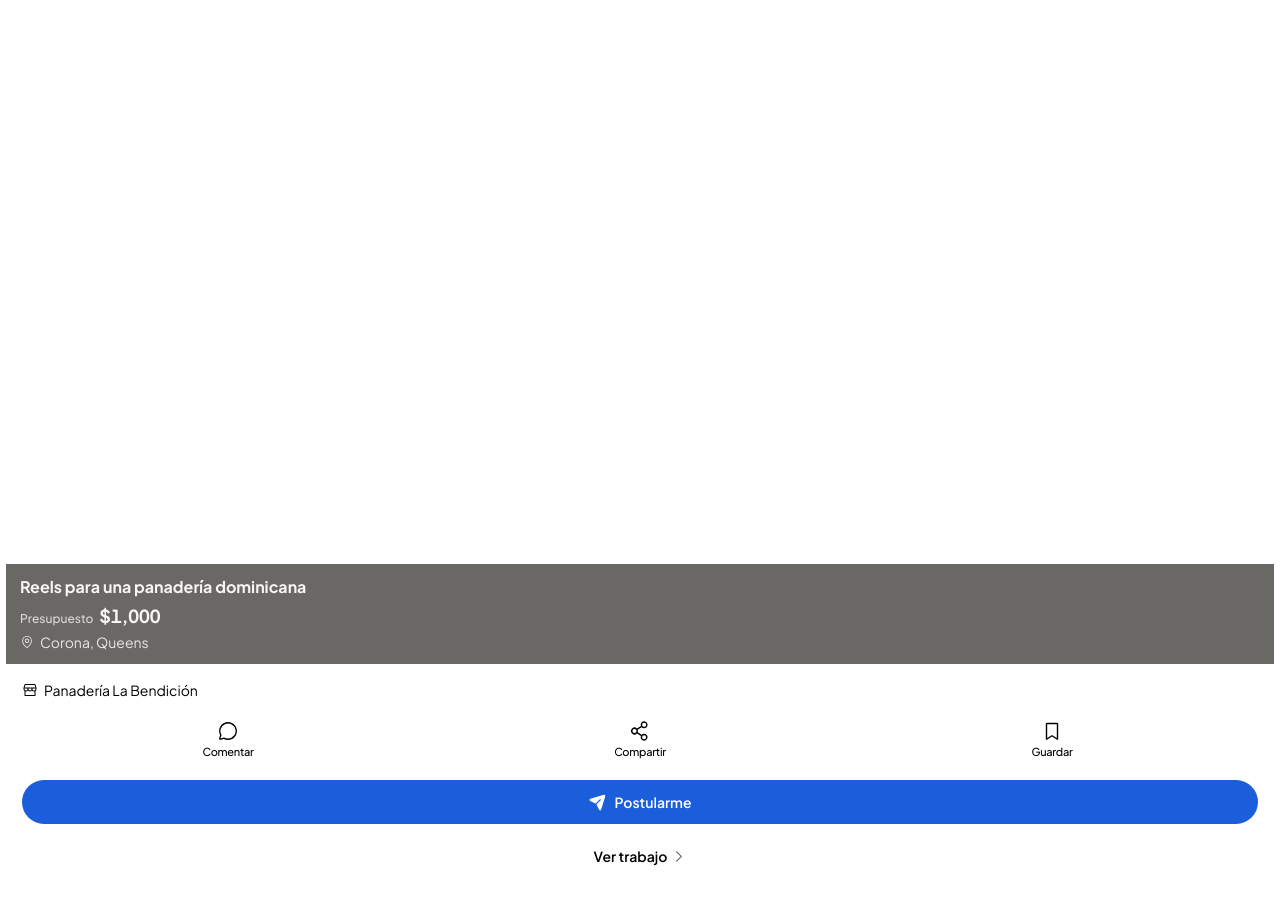
Test: GigCard: postularse se resuelve en la lista › un 'ya te habías postulado' NO se pinta como propuesta enviada
(page scrolled)
Click the button with aria-label "postularme a ". click: (640, 802)
box: 22,780 -> 1258,824
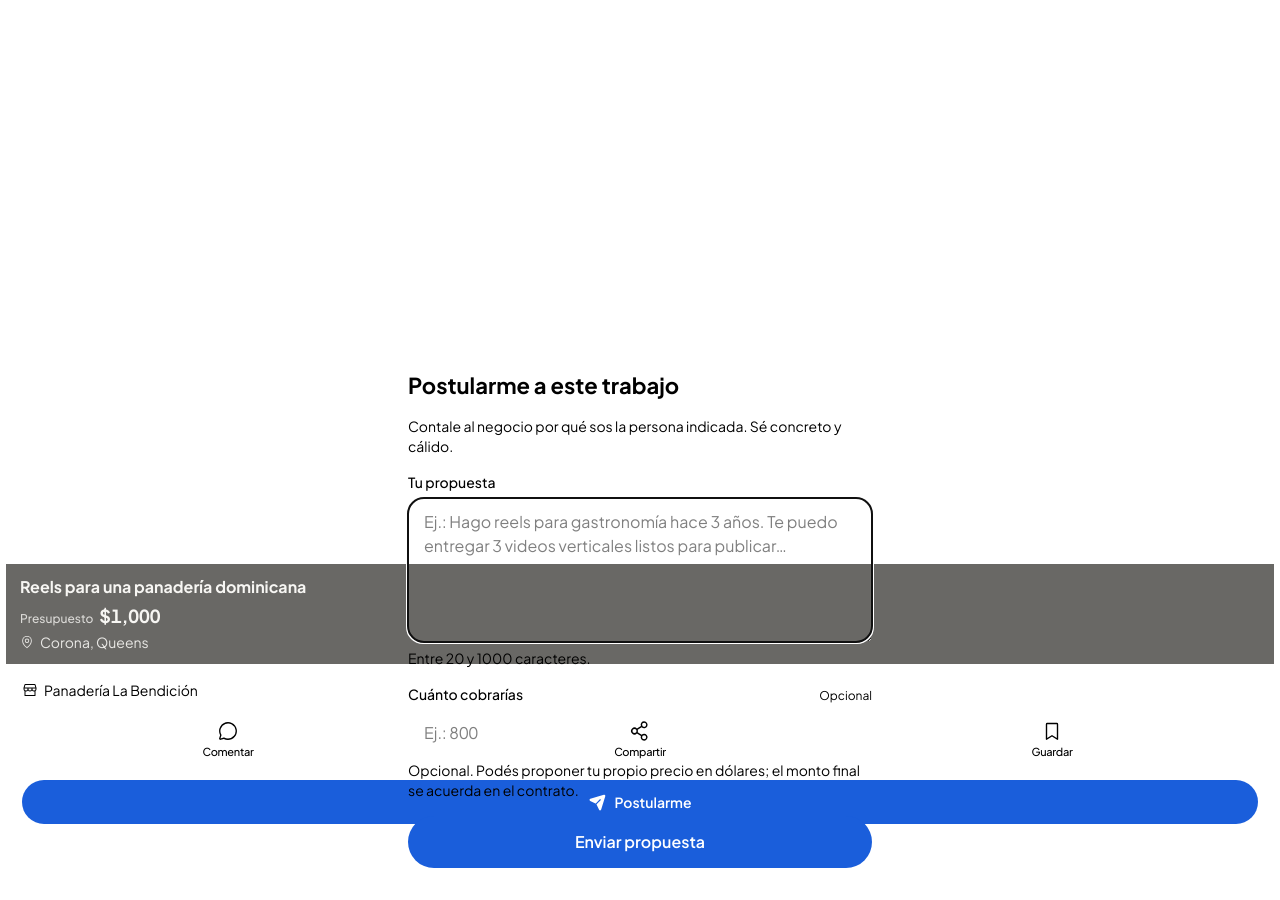
Expected: the dialog is shown, 384,336 -> 896,899
Replace the text in the text box with "Hago reels para gastronomía y te puedo entregar tres videos verticales.". click: (640, 570)
box: 408,498 -> 872,642
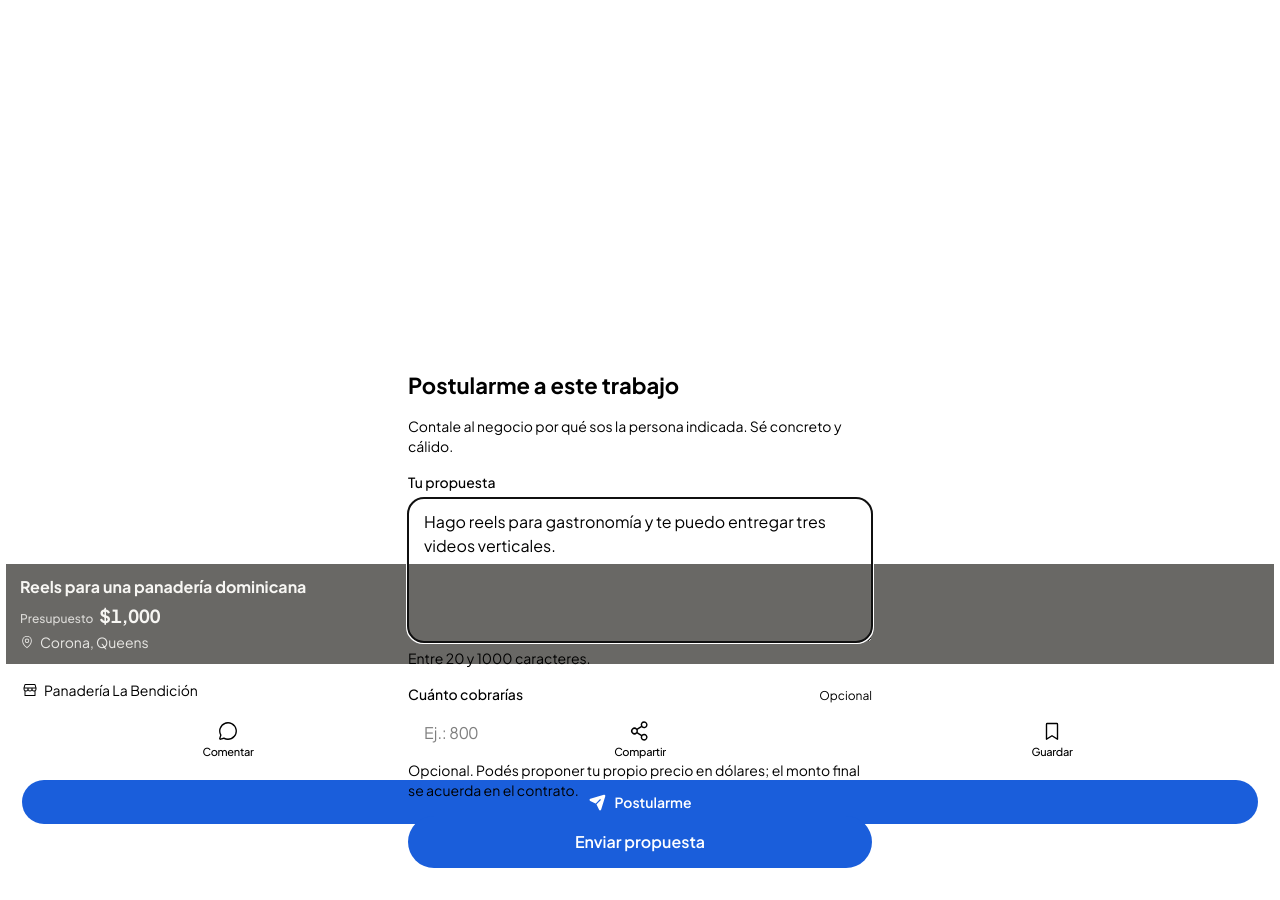
Click the button "Enviar propuesta". click: (640, 842)
box: 408,816 -> 872,868
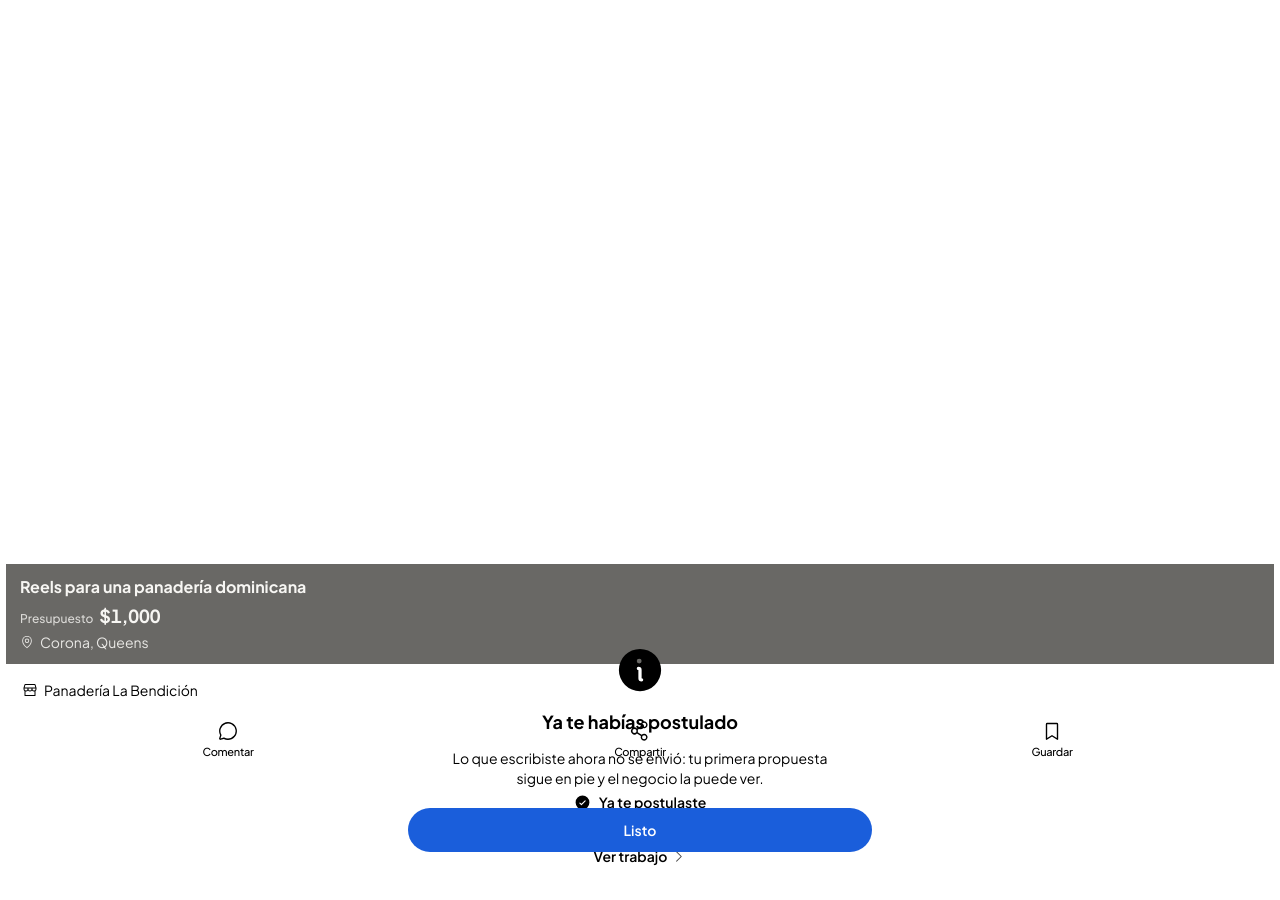
Expected: the heading "Ya te habías postulado" is shown, 542,708 -> 738,736
Expected: the text "no se envió" is shown, 452,749 -> 827,787
